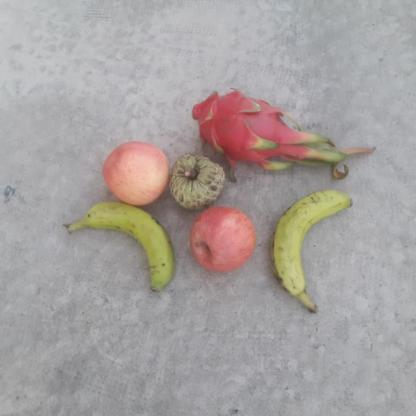annona: (168, 154, 227, 208)
apple: (97, 137, 168, 207), (187, 204, 258, 271)
banana: (64, 200, 178, 292), (272, 189, 353, 310)
pitaya: (191, 95, 292, 164)
